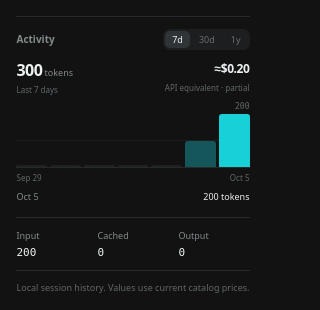
Test case: UsageTrend › switches between daily and monthly periods while keeping the full token subtotal
The width and height of the screenshot is (320, 310).
Check: the element with class "usage-trend__summary" shows "300 tokens", box x1=16 y1=59 x2=250 y2=95
Step 1. Click the button named "Last 30 days" → (207, 39), box x1=192 y1=31 x2=222 y2=48
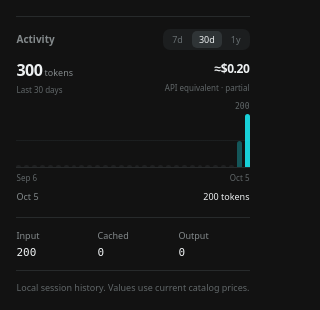
Step 2. Click the button named "Last year" → (236, 39), box x1=224 y1=31 x2=248 y2=48
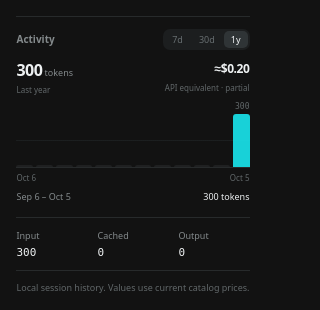
Check: the element with class "usage-trend__summary" shows "300 tokens", box x1=16 y1=59 x2=250 y2=95
